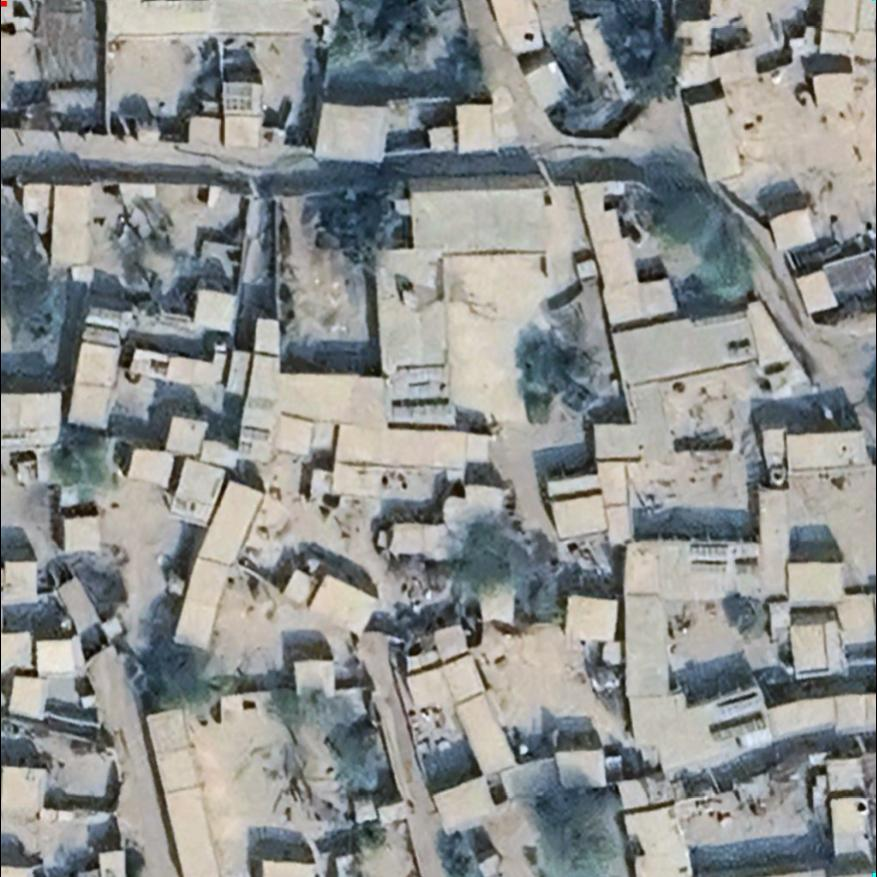Solarpanel: (393, 362, 448, 403), (715, 689, 766, 720), (221, 81, 256, 112), (239, 424, 270, 455), (688, 559, 732, 577), (690, 542, 733, 558)
